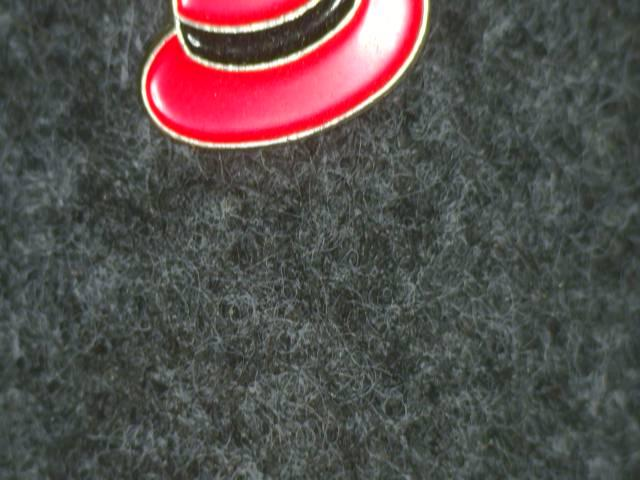Red-Hat: (123, 0, 458, 176)
